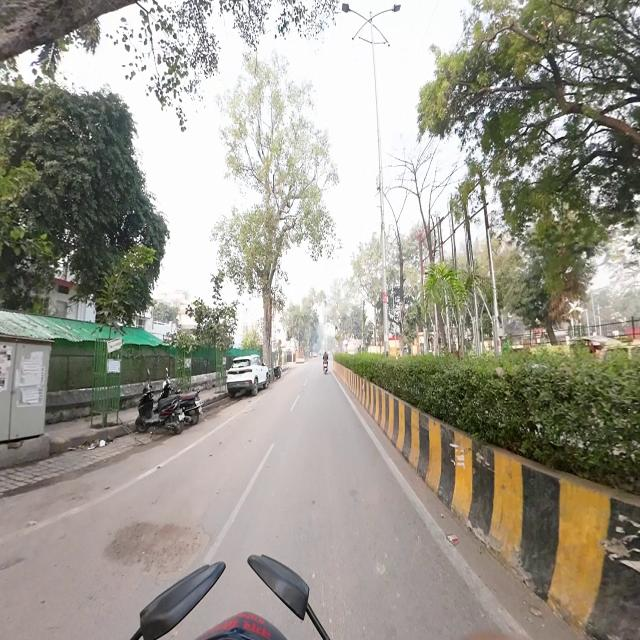Garbage: (76, 438, 112, 457)
